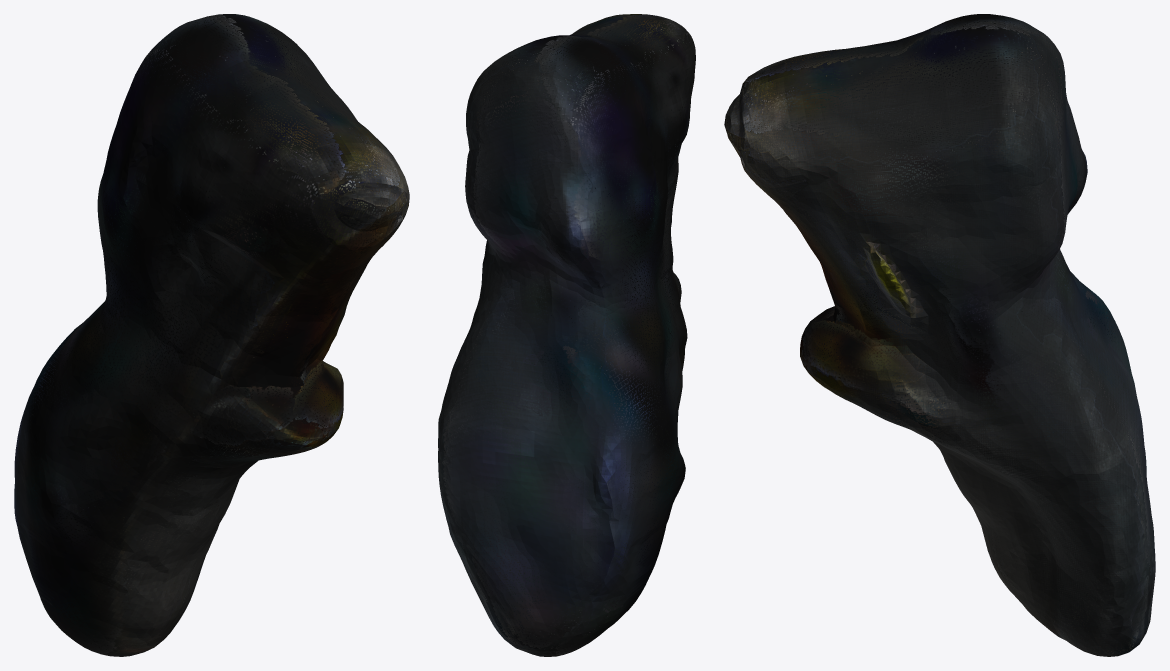
File: leather.glb
3 views of the same model, side by side, from view 1: azimuth 30°, elevation 25°; view 2: azimuth 150°, elevation 25°; view 3: azimuth 270°, elevation 25° (orthographic). The views are drawn at different scales.
Parts seen in each view (by area): view 1: world; view 2: world; view 3: world.
Part boxes in pixels (<box>): world: <box>14,14,409,656</box>; world: <box>438,14,695,656</box>; world: <box>724,14,1155,656</box>.
Size of the model in its own units: 0.4182 by 1 by 0.6033.
1 material, 1 textured.
